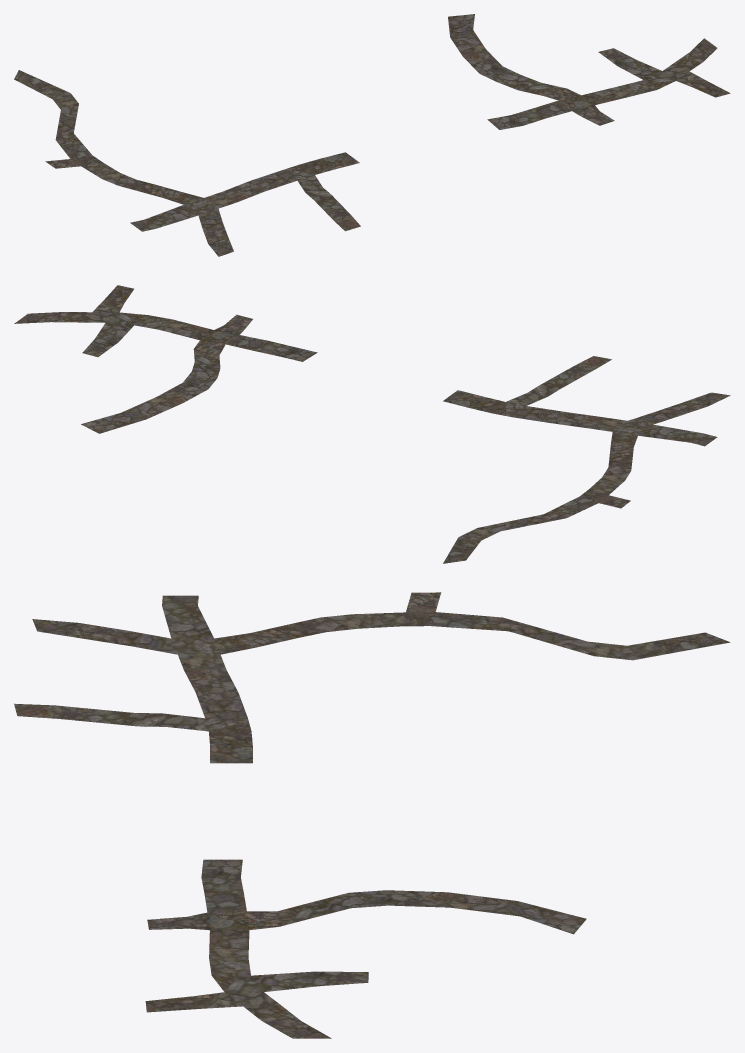
Rendered from path.gltf.
3 renders of one model, top to bottom at view 1: azimuth 30°, elevation 25°; view 2: azimuth 150°, elevation 25°; view 3: azimuth 270°, elevation 25°, orthographic. The views are drawn at different scales.
Visible parts, largest first — view 1: path; view 2: path; view 3: path.
Part boxes in pixels (box(x1,y1,x2,y2)): path: box(14, 14, 730, 256); path: box(14, 285, 730, 563); path: box(14, 592, 730, 1038).
Size of the model in its own units: 5.49 by 0.0318 by 3.74.
Materials: 2 (2 with a texture image).
